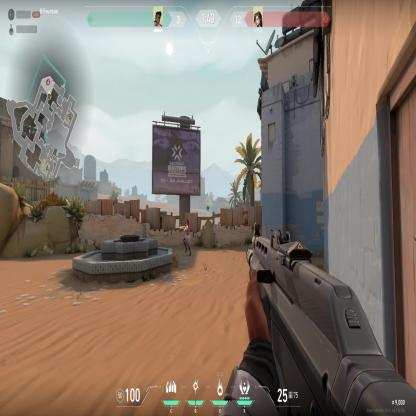enemy: (179, 218, 193, 258)
